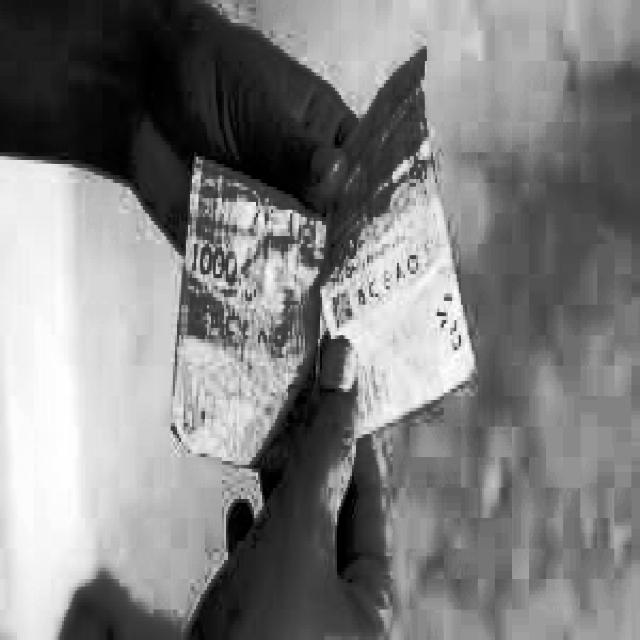niaar teemeer: (321, 49, 474, 433), (171, 156, 326, 462)
